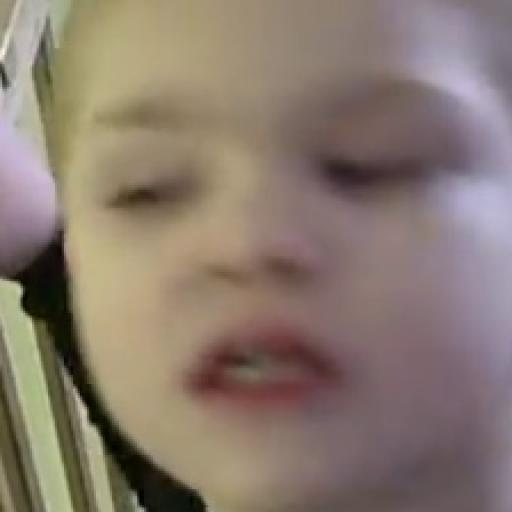Autism: (41, 2, 512, 512)
